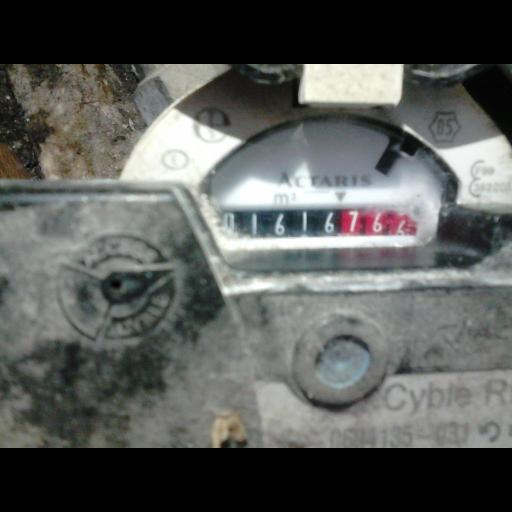0: (220, 210, 238, 240)
1: (297, 209, 312, 239), (247, 209, 261, 239)
6: (272, 210, 288, 238), (322, 209, 337, 238), (370, 208, 385, 236), (393, 208, 407, 236)
7: (346, 208, 361, 236)
border_water_meter_number: (220, 207, 418, 239)
